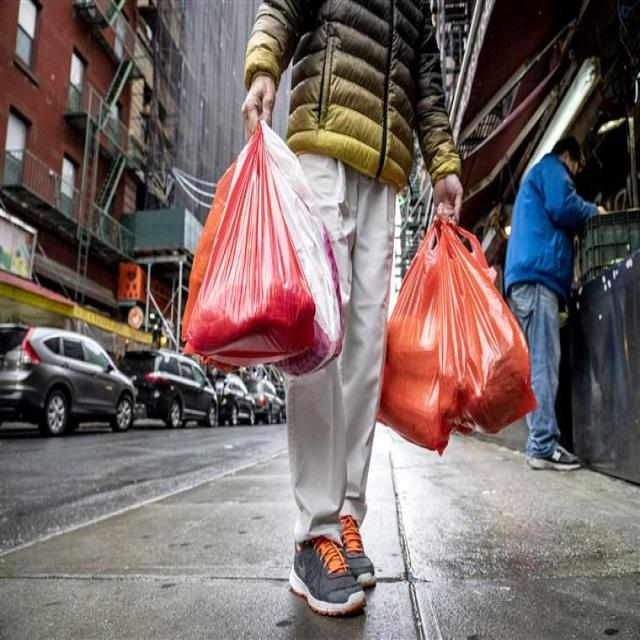plastic_bag: (185, 115, 315, 390), (439, 217, 545, 455), (271, 121, 347, 386), (377, 228, 442, 500)
